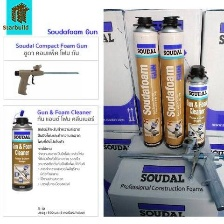aerosol_cans: (128, 13, 167, 149), (153, 12, 191, 150), (182, 62, 212, 151)
